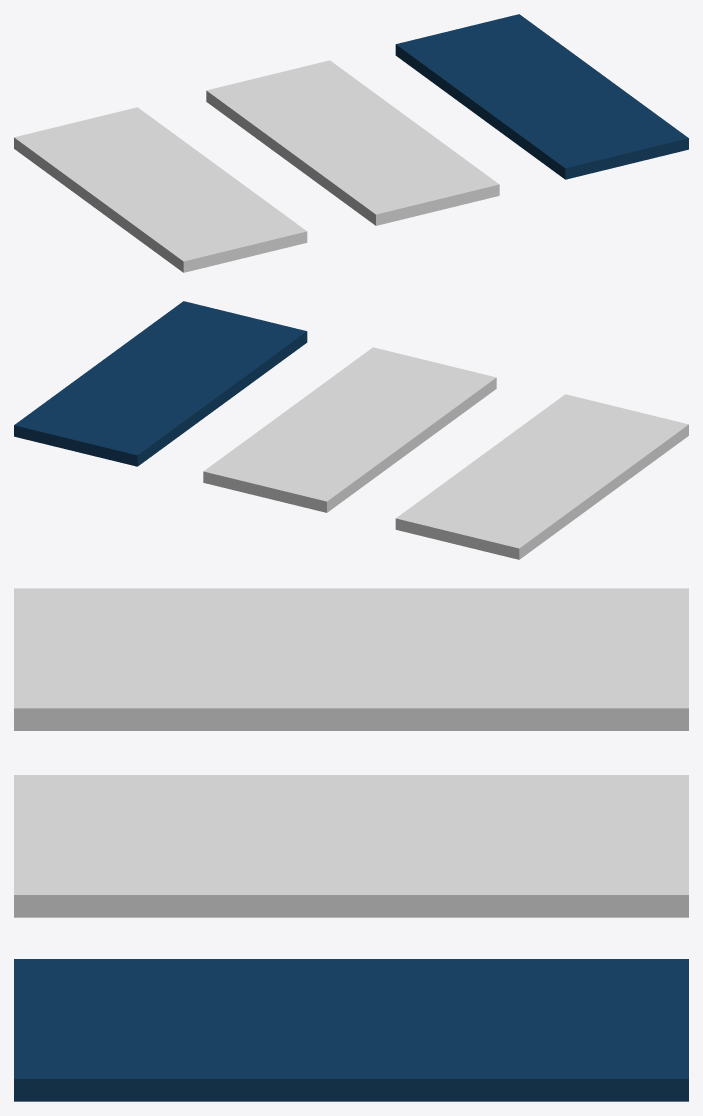
File: lenses.fbx
3 views of the same model, one above another, from view 1: azimuth 30°, elevation 25°; view 2: azimuth 150°, elevation 25°; view 3: azimuth 270°, elevation 25° (orthographic). The views are drawn at different scales.
Parts seen in each view (by area): view 1: Cube, Cube.001, Cube.002; view 2: Cube, Cube.001, Cube.002; view 3: Cube, Cube.001, Cube.002.
Part boxes in pixels (box(x1,y1,x2,y2)): Cube: box(206, 60, 499, 225); Cube.001: box(14, 107, 307, 272); Cube.002: box(395, 14, 688, 179); Cube: box(203, 347, 496, 512); Cube.001: box(395, 394, 688, 559); Cube.002: box(14, 301, 307, 466); Cube: box(14, 775, 688, 917); Cube.001: box(14, 588, 688, 730); Cube.002: box(14, 959, 688, 1101).
Bounding box in the file's own units: 674 × 14.5 × 392.
